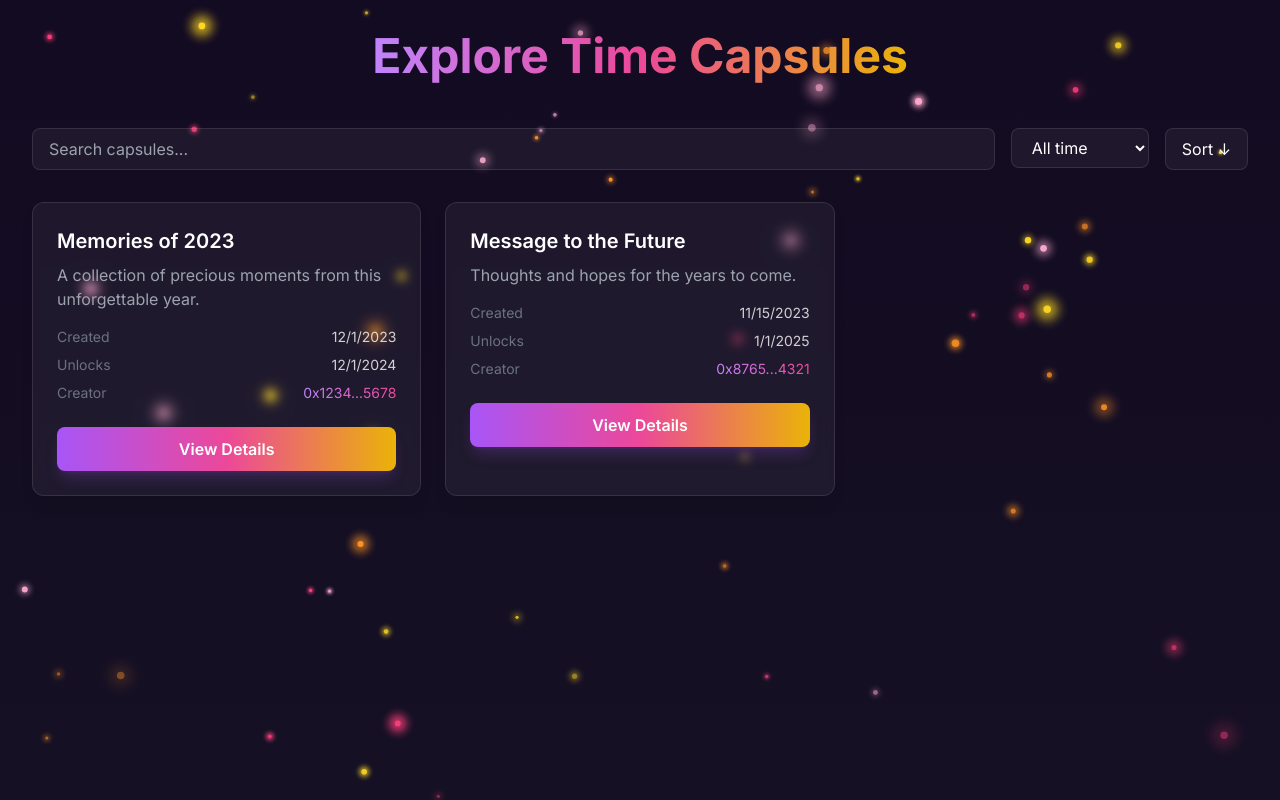
Test: ExplorePage › filters capsules by search term
# Type in search box
In the field labelled "Search capsules...": (513, 149) [32,128,995,170], type "Memories"
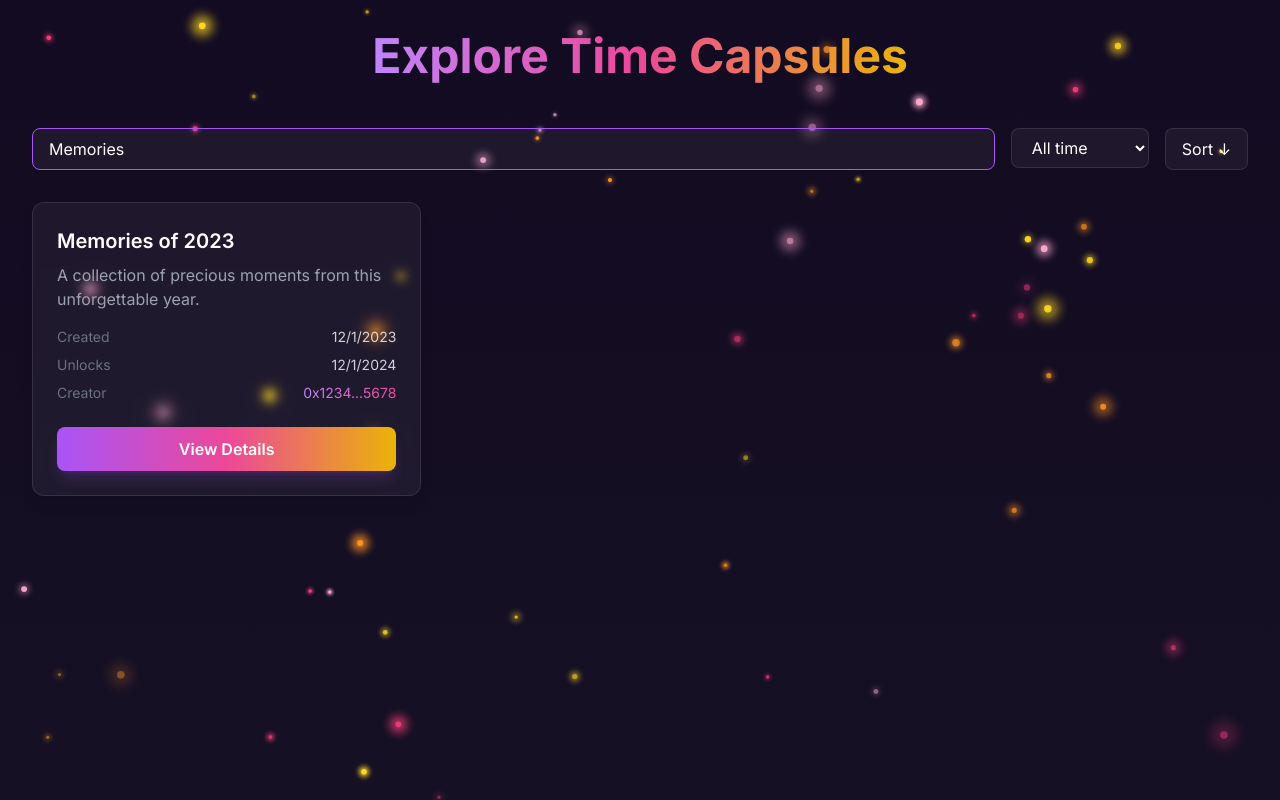
Check: the heading "Memories of 2023" is shown, box [57,229,234,253]
Check: the heading "Message to the Future" is gone
